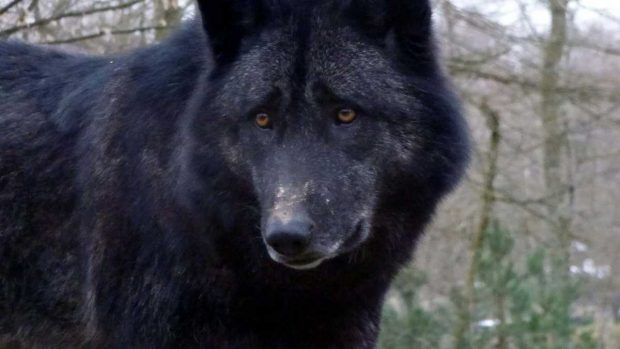Lobo: (7, 14, 465, 333)
